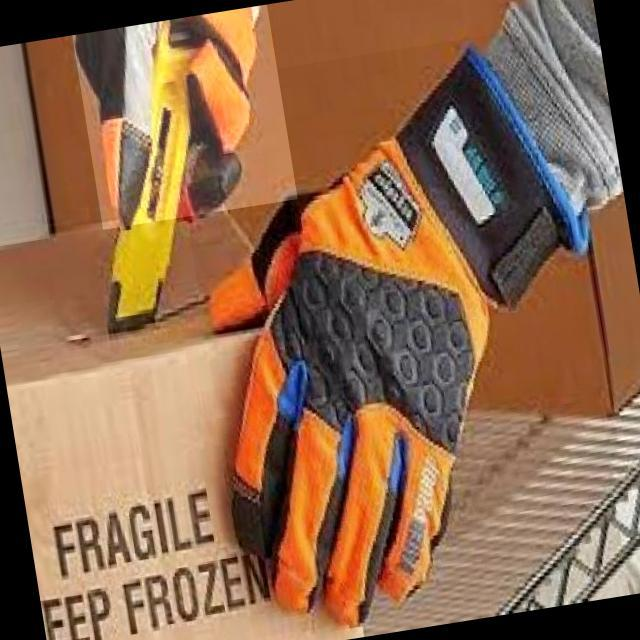Gloves: (166, 24, 640, 638), (73, 5, 298, 230)
